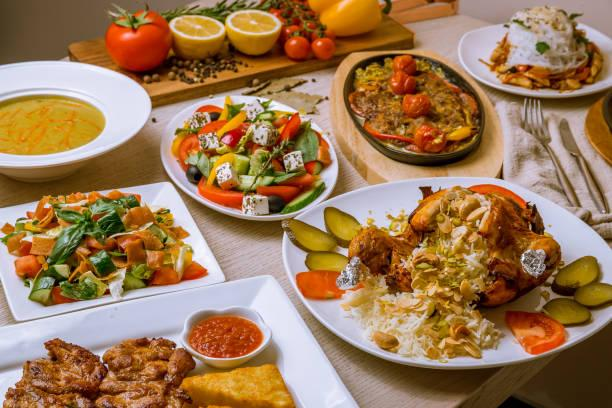Braised Crucian Carp: (289, 176, 609, 369), (0, 273, 359, 407), (2, 184, 231, 319), (158, 94, 333, 222), (1, 60, 152, 185), (344, 53, 482, 166), (458, 20, 612, 99)
